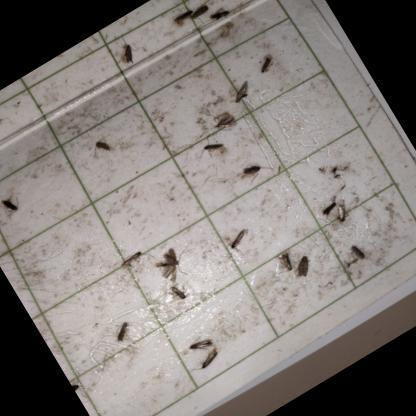prays_oleae: (108, 27, 150, 82), (100, 310, 146, 356), (150, 241, 192, 288), (83, 124, 124, 166), (207, 99, 246, 141), (220, 216, 259, 258), (225, 72, 263, 112), (0, 183, 31, 229), (162, 275, 197, 315), (269, 238, 304, 278), (192, 342, 228, 378), (113, 246, 151, 280), (198, 130, 232, 168), (252, 46, 287, 82), (236, 154, 270, 190), (167, 0, 200, 34), (312, 191, 345, 225), (290, 250, 321, 286), (329, 196, 358, 232), (184, 0, 218, 28), (184, 326, 216, 354), (343, 237, 371, 268), (64, 366, 90, 398), (205, 0, 234, 25), (0, 101, 8, 139)
